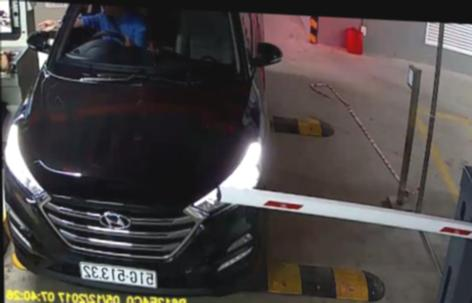License_Plate: (75, 254, 162, 293)
